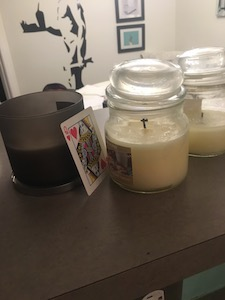QueenOfHearts: (58, 105, 116, 196)
